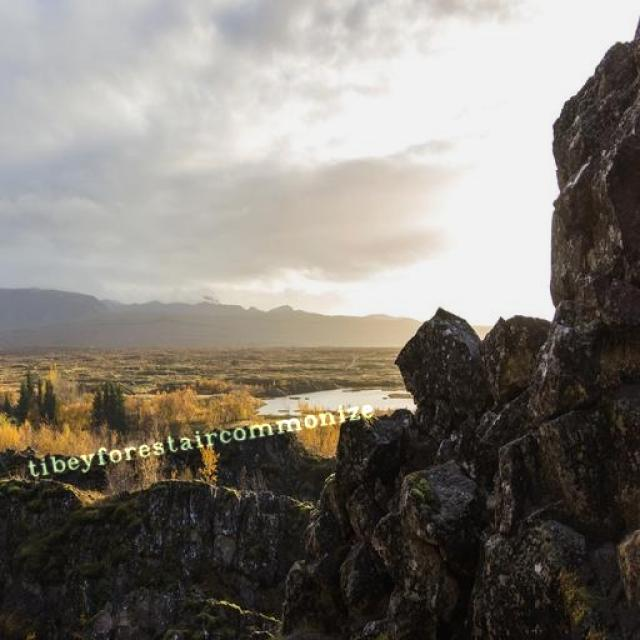watermark: (21, 397, 375, 480)
